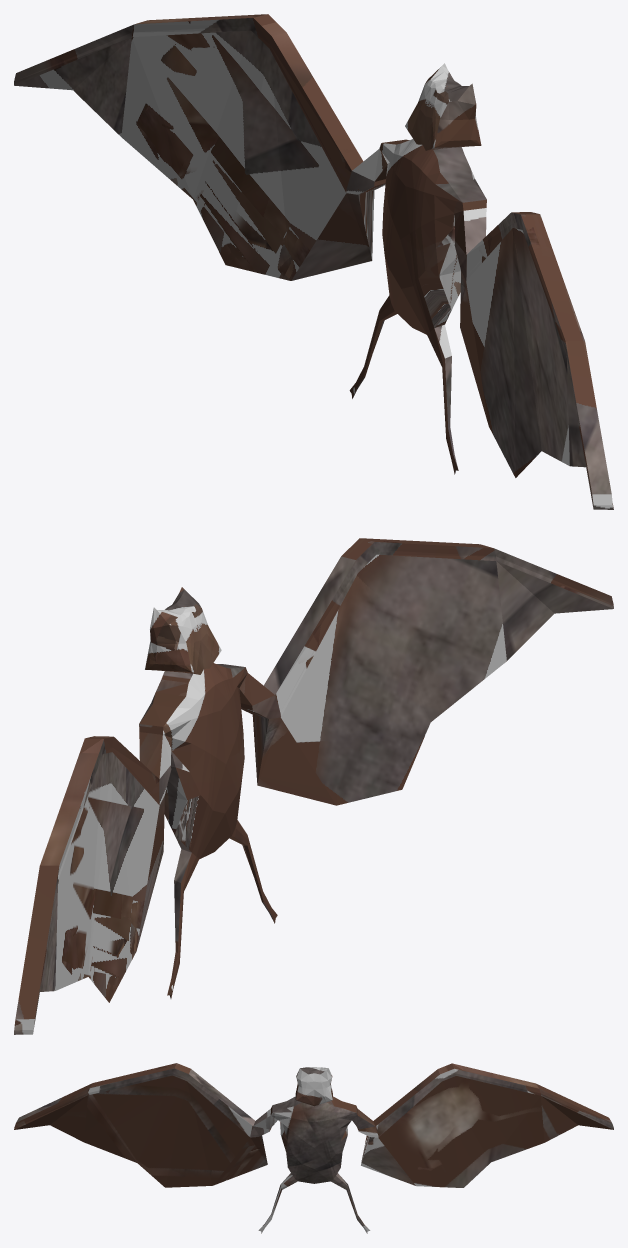
File: Enemigo14.obj
The picture shows the model from 3 angles, top to bottom: view 1: azimuth 30°, elevation 25°; view 2: azimuth 150°, elevation 25°; view 3: azimuth 270°, elevation 25°; orthographic projection. The views are drawn at different scales.
Visible parts, largest first — view 1: Plano; view 2: Plano; view 3: Plano.
Part boxes in pixels (<box>): Plano: <box>14,14,613,509</box>; Plano: <box>14,538,613,1034</box>; Plano: <box>14,1063,613,1233</box>.
Bounding box in the file's own units: 0.3665 × 0.7498 × 2.27.
Materials: 1 (1 with a texture image).
